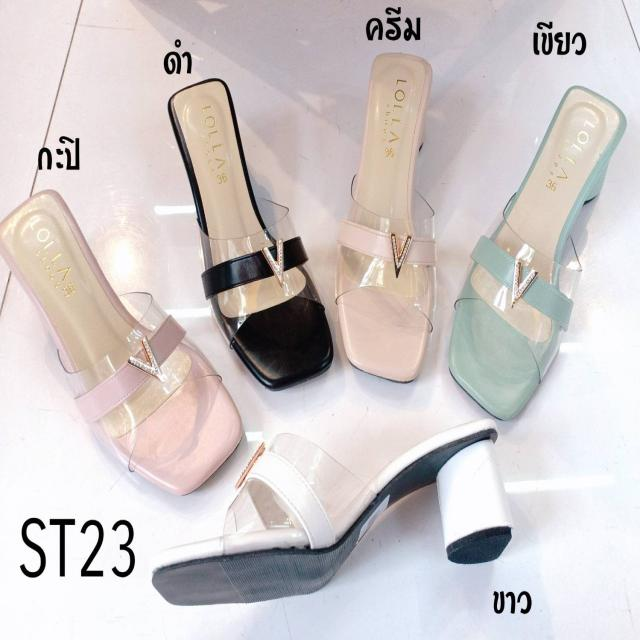black: (173, 81, 331, 383)
cream: (327, 55, 439, 382)
green: (448, 90, 620, 421)
kapi: (2, 188, 242, 492)
white: (156, 424, 515, 593)
